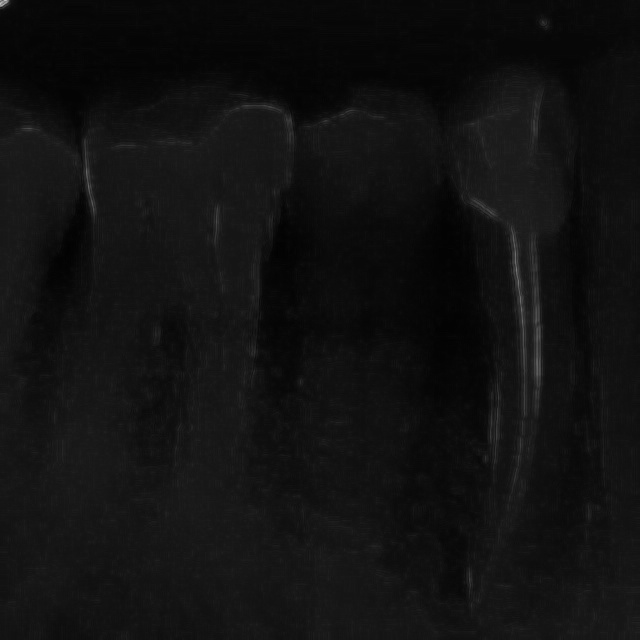Class 0- No endodontic treatment: (430, 63, 601, 631)
cavity: (38, 56, 293, 602), (277, 74, 459, 631)
